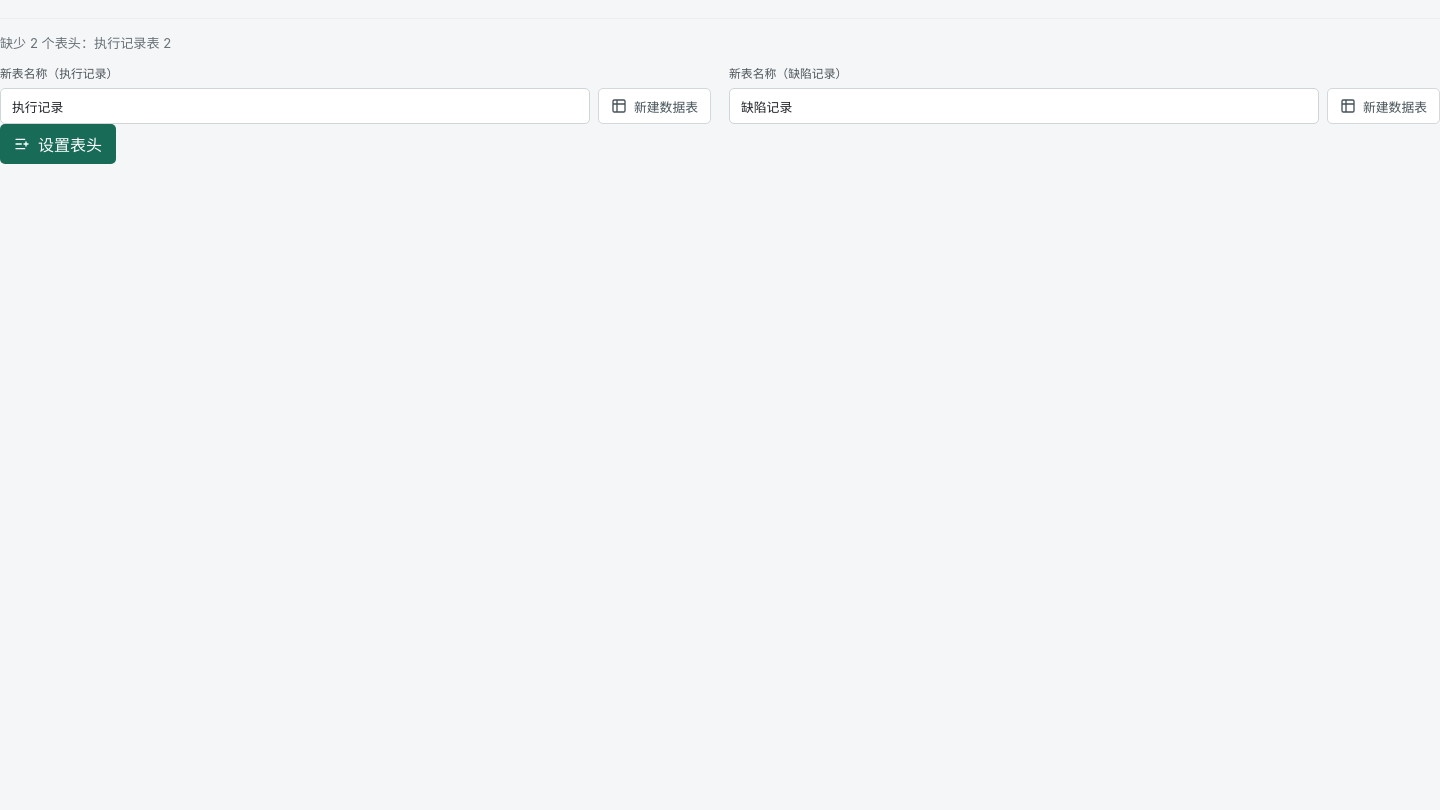
reports how many headers were created and asks the page to re-read the target
Expected: the text "缺少 2 个表头：执行记录表 2" is shown, [0,35,171,51]
Click the button "设置表头": (58,144) [0,124,116,164]
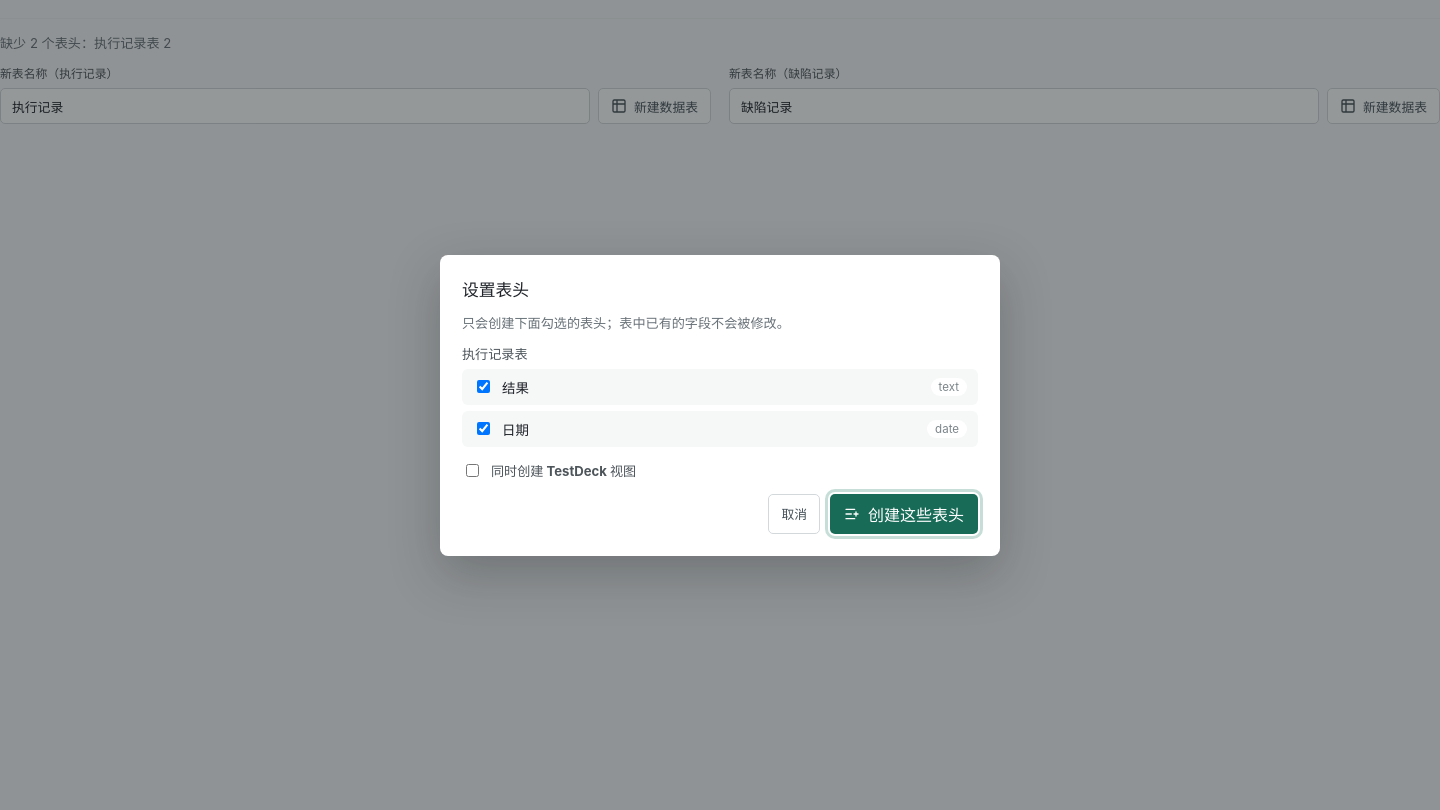
Click the button "创建这些表头": (904,514) [830,494,978,534]
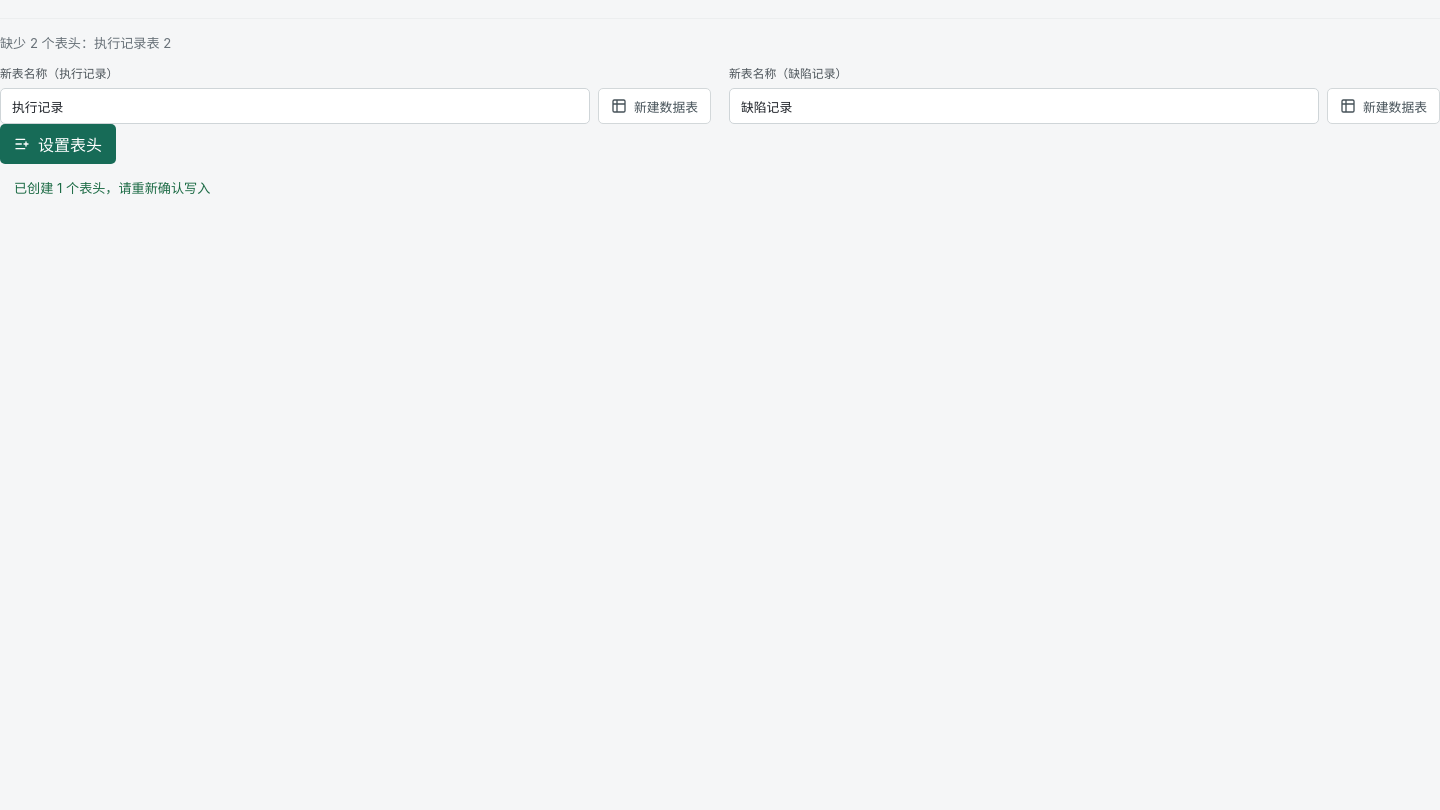
Expected: the text "已创建 1 个表头，请重新确认写入" is shown, [14,180,210,196]
Expected: the dialog is gone
